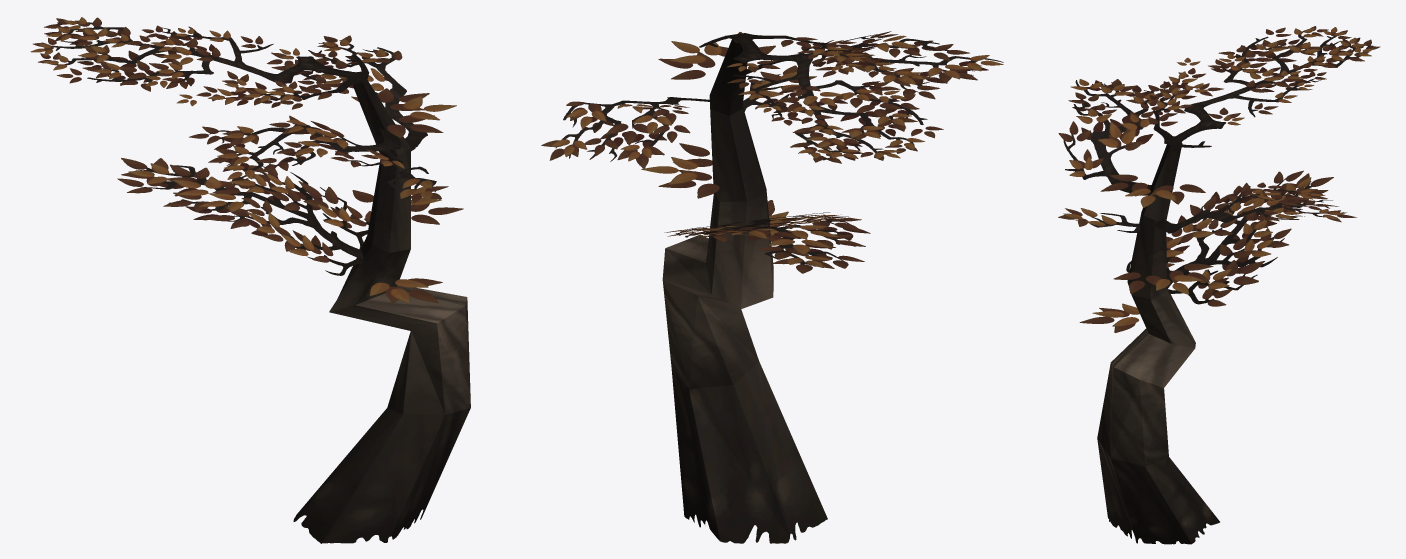
Rendered from cherrytree_dead_small_02.fbx.
3 views of the same model, side by side, from view 1: azimuth 30°, elevation 25°; view 2: azimuth 150°, elevation 25°; view 3: azimuth 270°, elevation 25° (orthographic). The views are drawn at different scales.
Parts seen in each view (by area): view 1: obj1.071; view 2: obj1.071; view 3: obj1.071.
Part boxes in pixels (box(x1,y1,x2,y2)): obj1.071: box(30, 17, 470, 543); obj1.071: box(541, 31, 1003, 543); obj1.071: box(1058, 26, 1380, 544).
Size of the model in its own units: 4.13 by 4.47 by 3.47.
